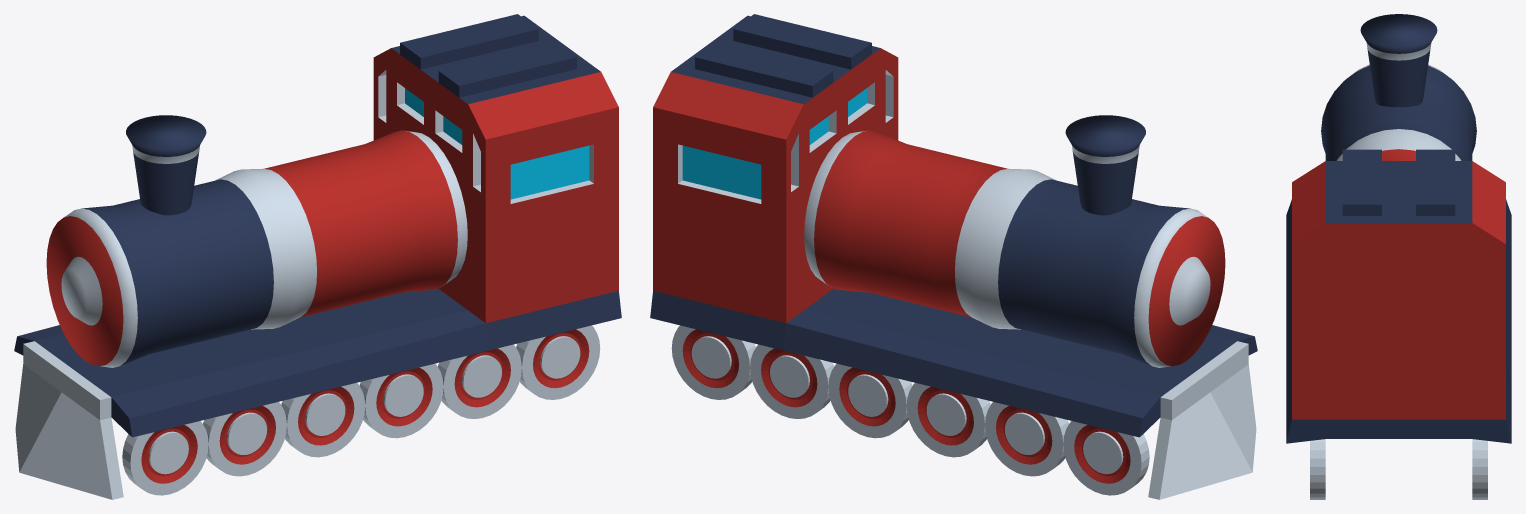
Rendered from TrainModel08.fbx.
3 views of the same model, side by side, from view 1: azimuth 30°, elevation 25°; view 2: azimuth 150°, elevation 25°; view 3: azimuth 270°, elevation 25° (orthographic). The views are drawn at different scales.
Visible parts, largest first — view 1: TrainModel08; view 2: TrainModel08; view 3: TrainModel08.
Part boxes in pixels (box(x1,y1,x2,y2)): TrainModel08: box(14, 14, 621, 499); TrainModel08: box(650, 14, 1257, 499); TrainModel08: box(1286, 14, 1511, 499).
Bounding box in the file's own units: 816 × 461 × 307.
